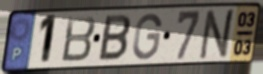1: (36, 13, 58, 68)
7: (176, 9, 202, 62)
B: (60, 14, 98, 64), (96, 14, 133, 63)
G: (131, 12, 164, 61)
N: (197, 7, 239, 61)
